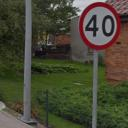speed_limit_40: (74, 1, 124, 51)
